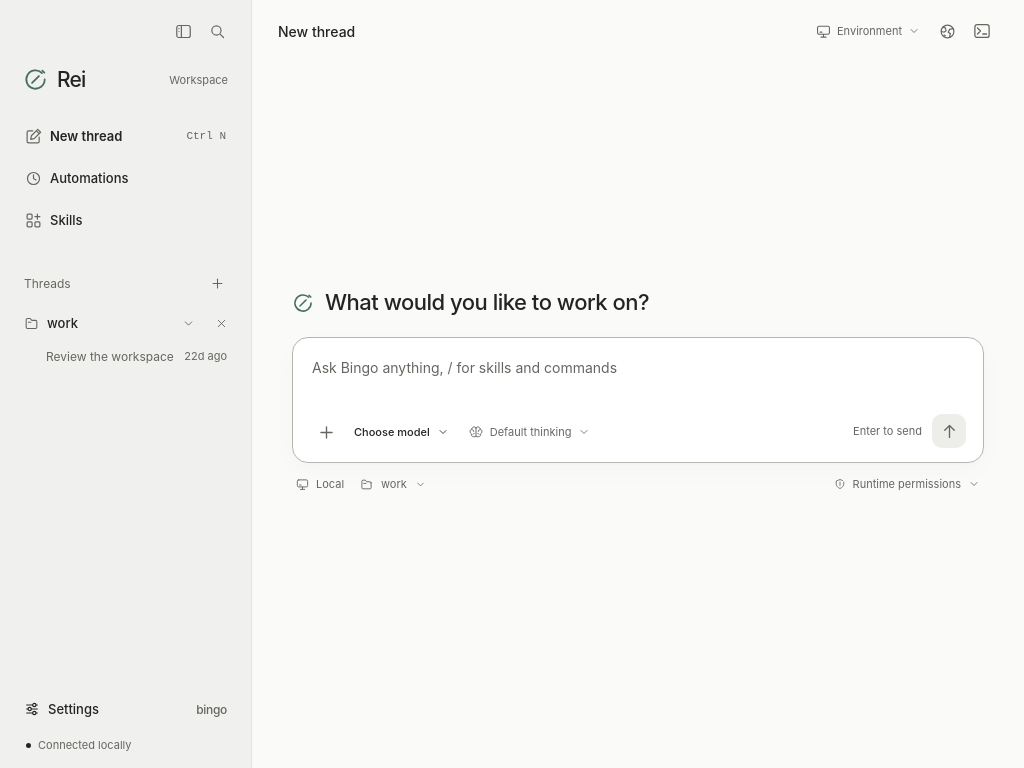
Test case: desktop user journeys › does not copy a created session rejection back into the next blank draft
Expected: the text "Connected locally" is shown, x1=38 y1=738 x2=132 y2=752
Expected: the button named "Send message" is disabled, x1=932 y1=414 x2=966 y2=448
Type "A rejected draft" into the text box named "Message bingo" at (638, 381), box x1=307 y1=350 x2=969 y2=412
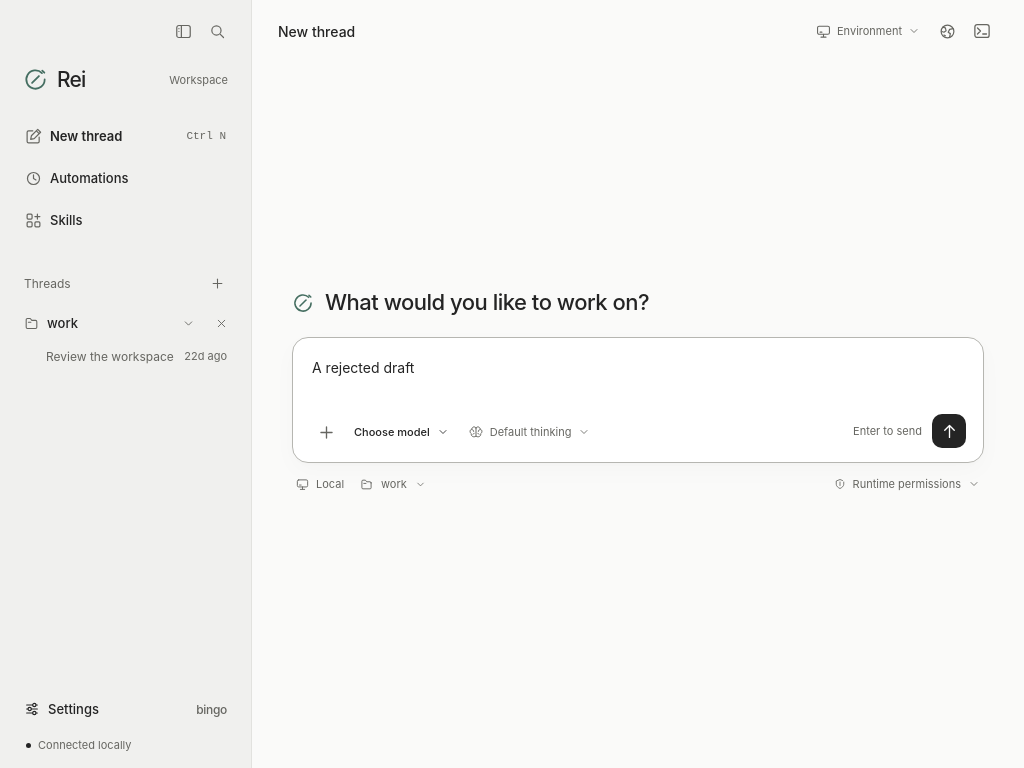
Click the button named "Send message" at (949, 431), box x1=932 y1=414 x2=966 y2=448
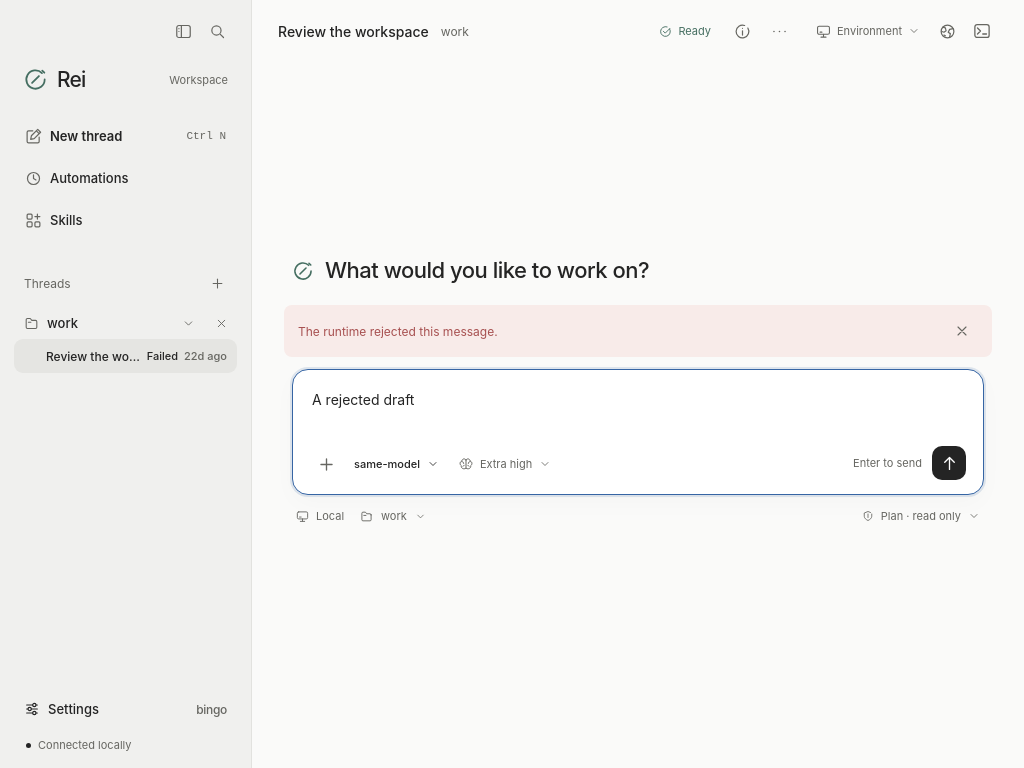
Result: the text "The runtime rejected this message." is shown at x1=298 y1=324 x2=498 y2=339
Click the button "New thread Ctrl N" at (126, 136), box x1=14 y1=117 x2=237 y2=155
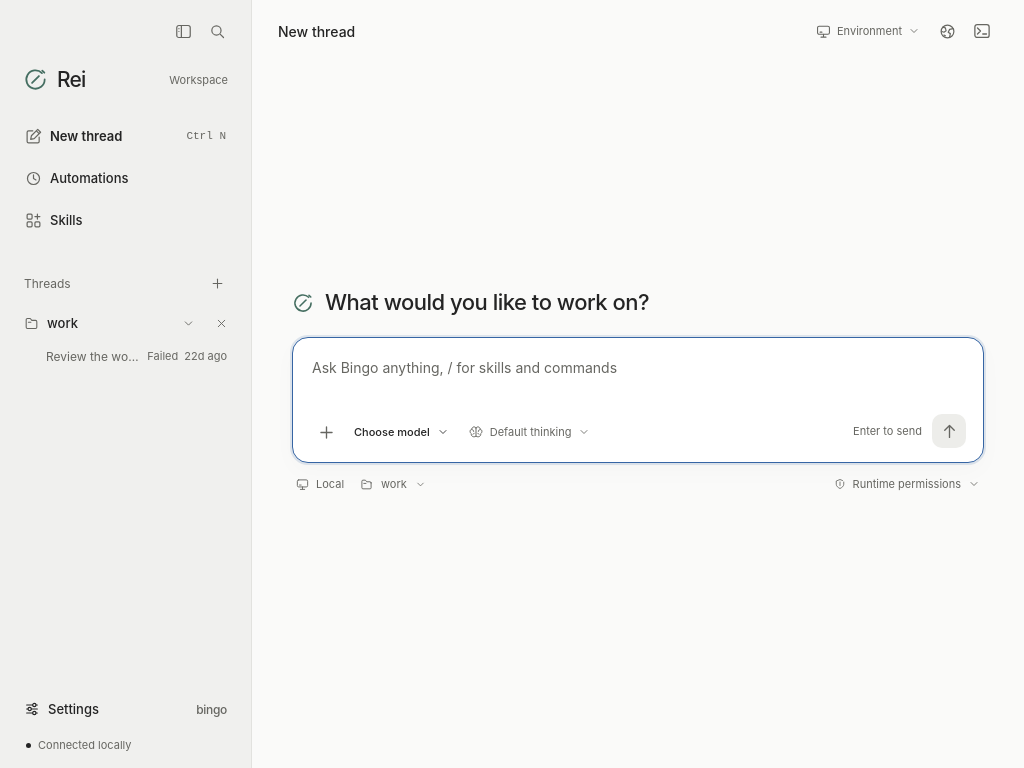
Expected: the heading "What would you like to work on?" is shown, x1=325 y1=288 x2=649 y2=317
Result: the text "The runtime rejected this message." is gone
Result: the text box named "Message bingo" is empty at x1=307 y1=350 x2=969 y2=412
